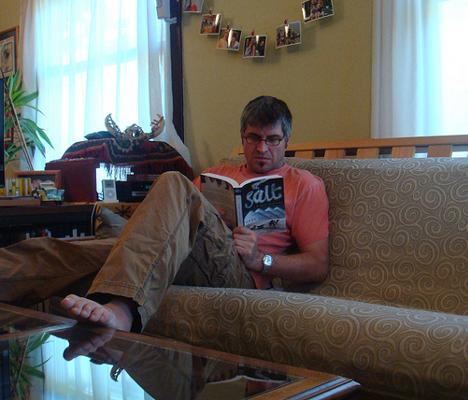person: (64, 97, 332, 335)
